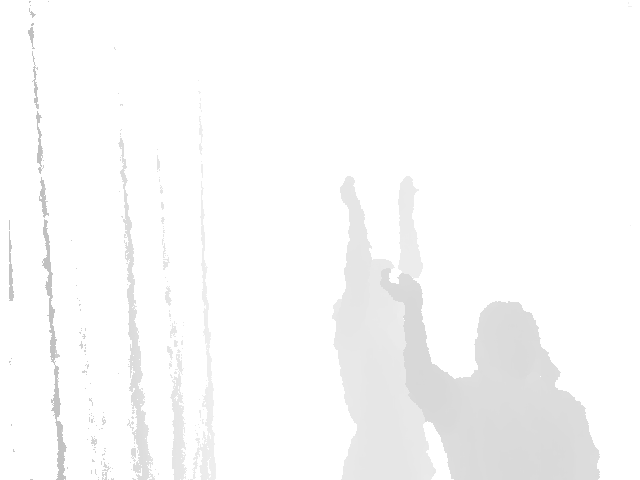hand: (378, 267, 424, 311), (340, 174, 364, 216), (396, 176, 421, 213)
head: (474, 300, 542, 381)
person: (378, 266, 600, 480), (329, 174, 440, 480)
